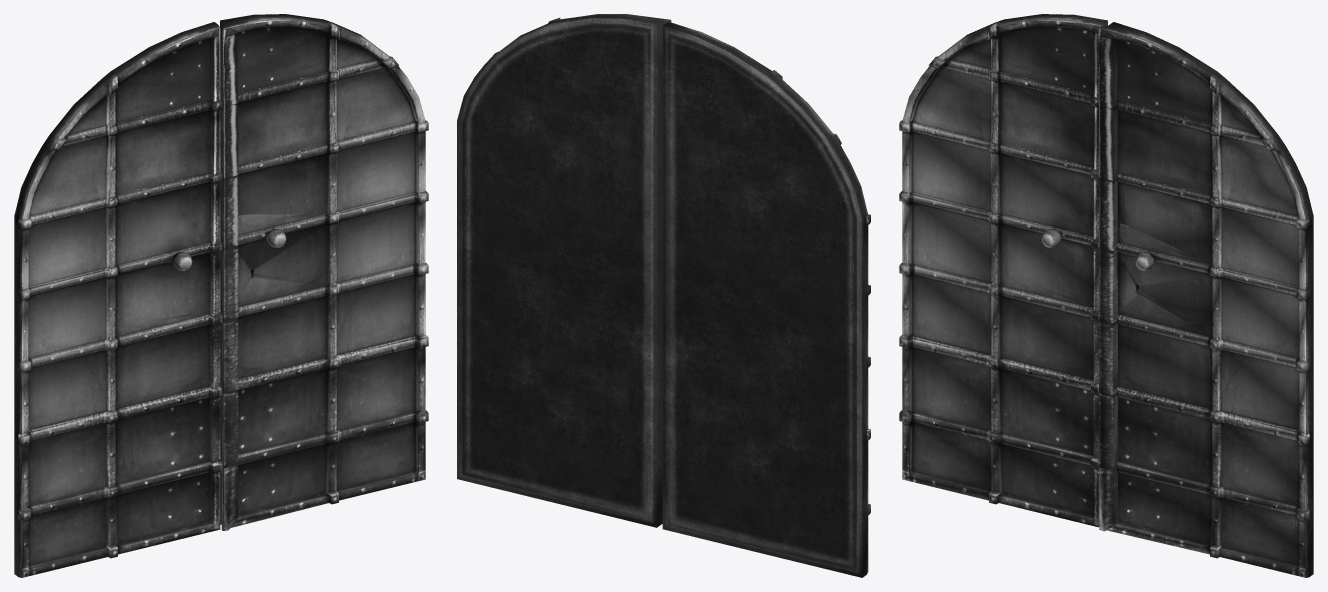
Rendered from gate.obj.
The picture shows the model from 3 angles, left to right: view 1: azimuth 30°, elevation 25°; view 2: azimuth 150°, elevation 25°; view 3: azimuth 330°, elevation 25°; orthographic projection.
Parts seen in each view (by area): view 1: Big_Door_L, Big_Door_R; view 2: Big_Door_L, Big_Door_R; view 3: Big_Door_R, Big_Door_L.
Part boxes in pixels (x1,y1,x2,y2): Big_Door_L: (14,22,222,577); Big_Door_R: (220,14,428,530); Big_Door_L: (662,22,870,577); Big_Door_R: (457,14,671,527); Big_Door_R: (1099,22,1313,577); Big_Door_L: (899,14,1107,527).
Bounding box in the file's own units: 12 × 14.15 × 0.8907.
Materials: 1 (1 with a texture image).
